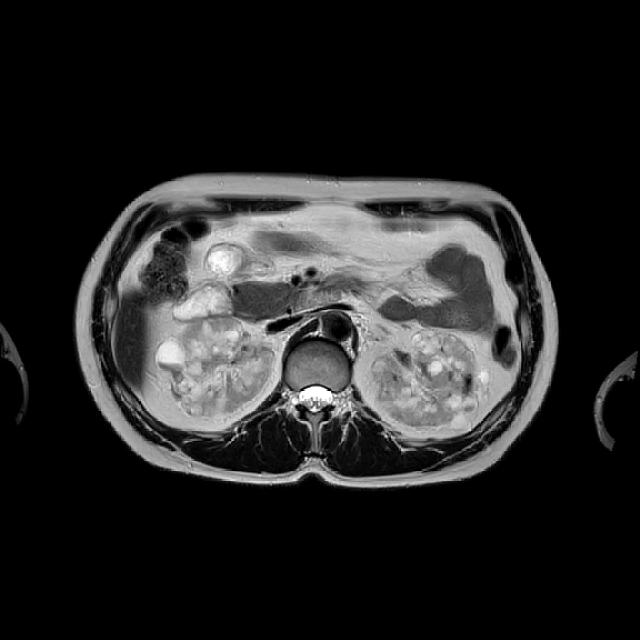sag: (158, 318, 275, 417)
sol: (373, 327, 487, 429)
